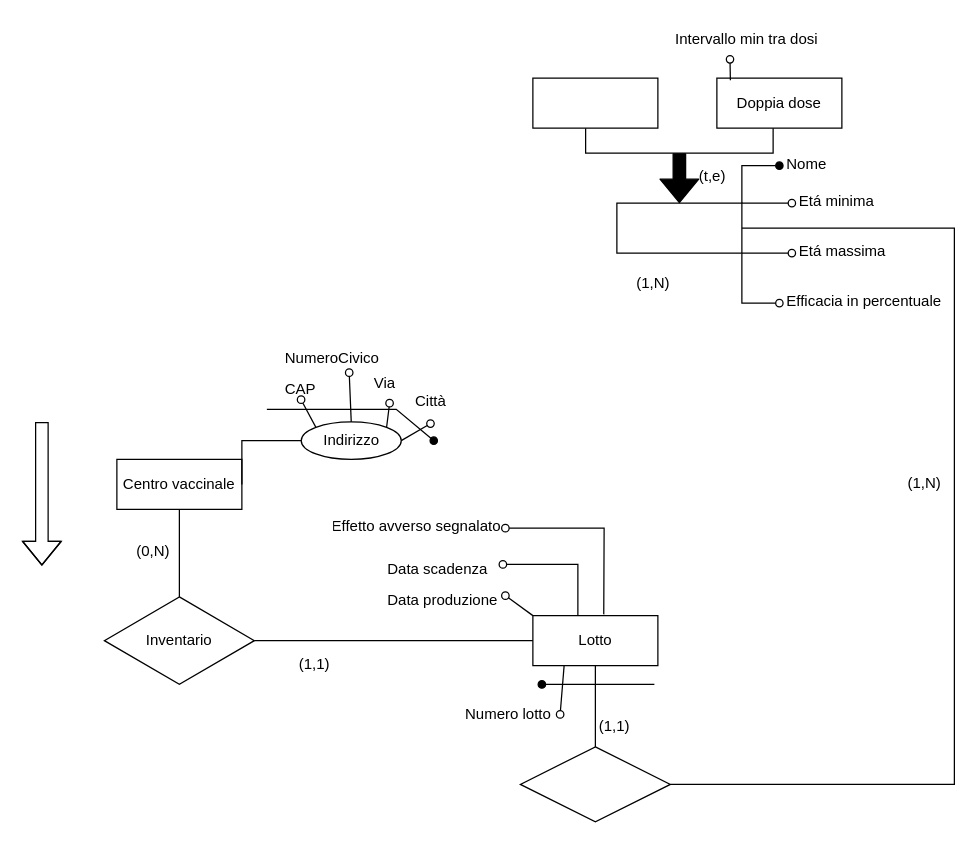
Image size: 978x844. Some labels were removed from this diagram. The centre of each missing label's shape, as x and y in pixels:
Appartenenza: (594,784)
Monodose: (595,102)
Tipo di vaccino: (679,227)
